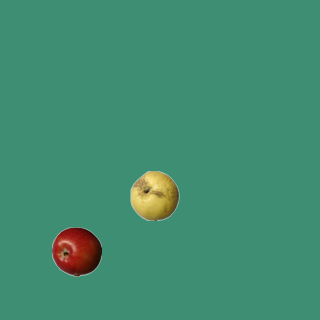Apple Braeburn: (51, 226, 101, 276)
Apple Golden 1: (129, 170, 179, 220)
